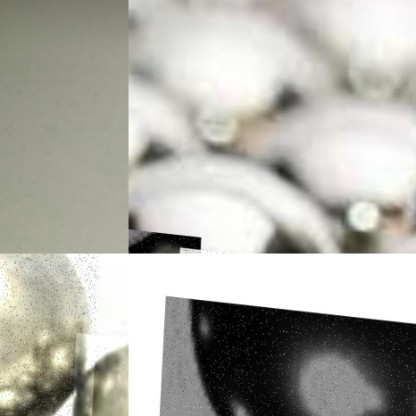ironball: (155, 291, 415, 415), (129, 4, 351, 141), (129, 151, 346, 254), (259, 93, 414, 227), (0, 253, 103, 415), (292, 1, 414, 96), (129, 74, 216, 175), (72, 324, 128, 415), (128, 220, 205, 253), (183, 244, 415, 253), (0, 410, 90, 415)
